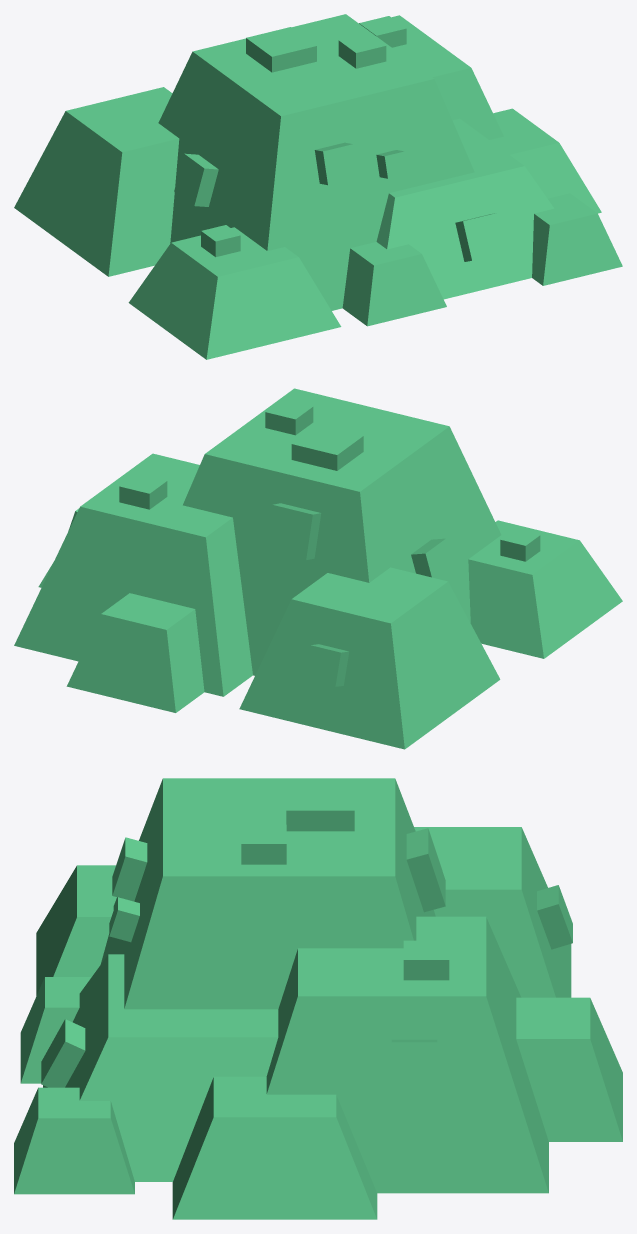
The model's file is rocksore.glb.
3 views of the same model, one above another, from view 1: azimuth 30°, elevation 25°; view 2: azimuth 150°, elevation 25°; view 3: azimuth 270°, elevation 25° (orthographic). The views are drawn at different scales.
Parts seen in each view (by area): view 1: rocksOre; view 2: rocksOre; view 3: rocksOre.
Part boxes in pixels (x1,y1,x2,y2): rocksOre: (14,14,622,359); rocksOre: (14,388,622,749); rocksOre: (14,778,622,1219).
Size of the model in its own units: 8.93 by 3.7 by 8.03.
